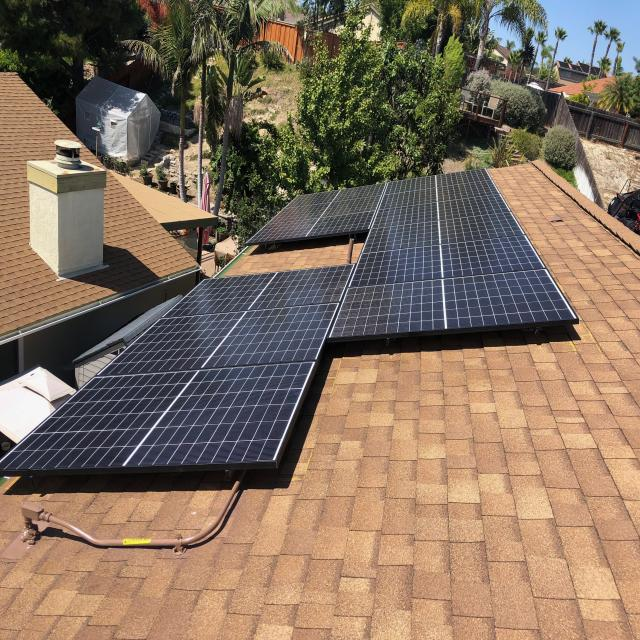clean-solar-panel: (0, 173, 579, 473)
